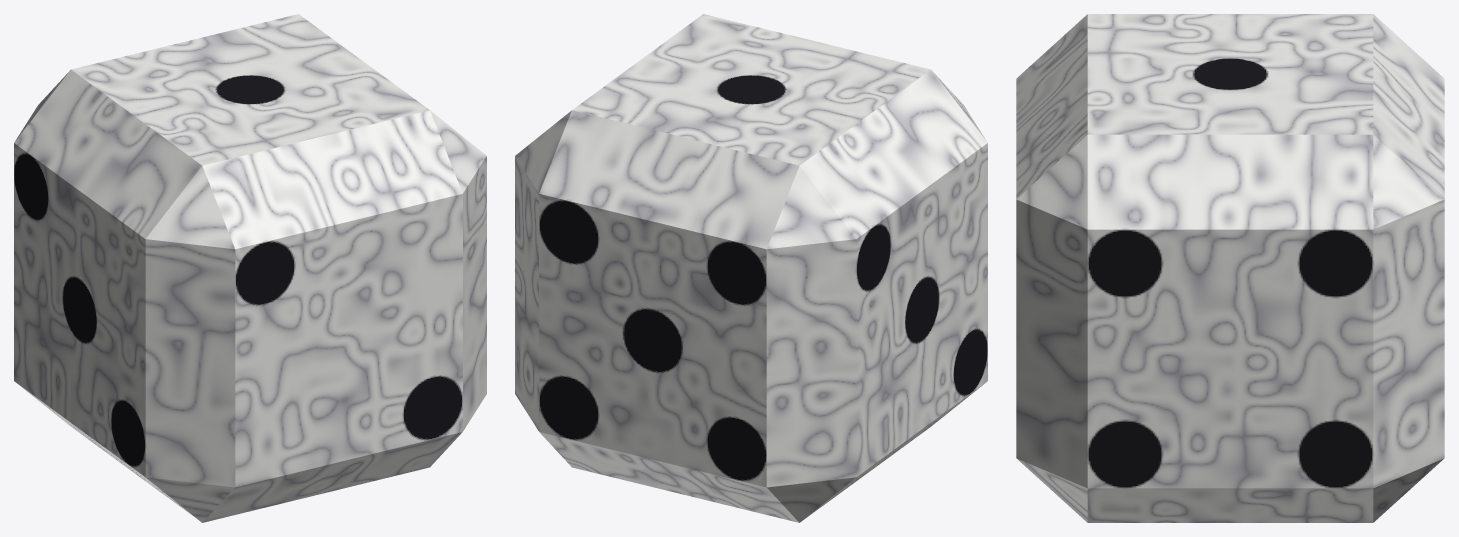
Rendered from Die_Edges.fbx.
3 renders of one model, left to right at view 1: azimuth 30°, elevation 25°; view 2: azimuth 150°, elevation 25°; view 3: azimuth 270°, elevation 25°, orthographic. The views are drawn at different scales.
Parts seen in each view (by area): view 1: Die_Edges; view 2: Die_Edges; view 3: Die_Edges.
Part boxes in pixels (bbox=[...]): Die_Edges: bbox=[14, 14, 486, 522]; Die_Edges: bbox=[515, 14, 987, 522]; Die_Edges: bbox=[1016, 14, 1444, 522].
Size of the model in its own units: 0.3 by 0.3 by 0.3.
Materials: 1 (1 with a texture image).
